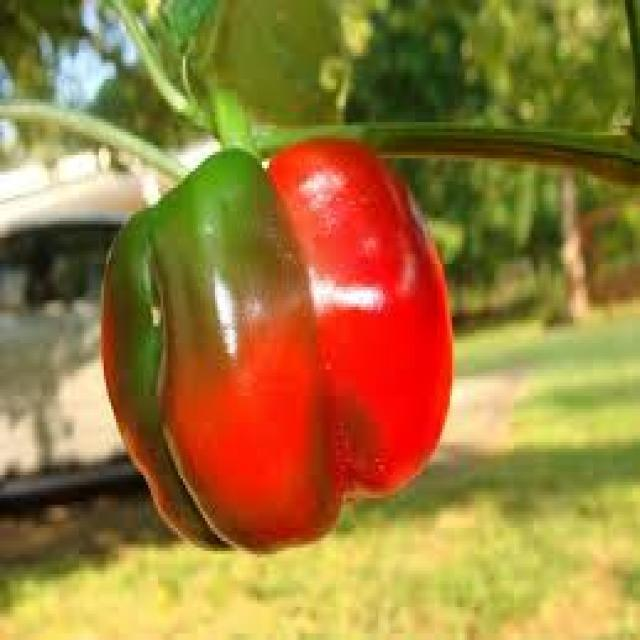Pepper: (101, 139, 455, 557)
